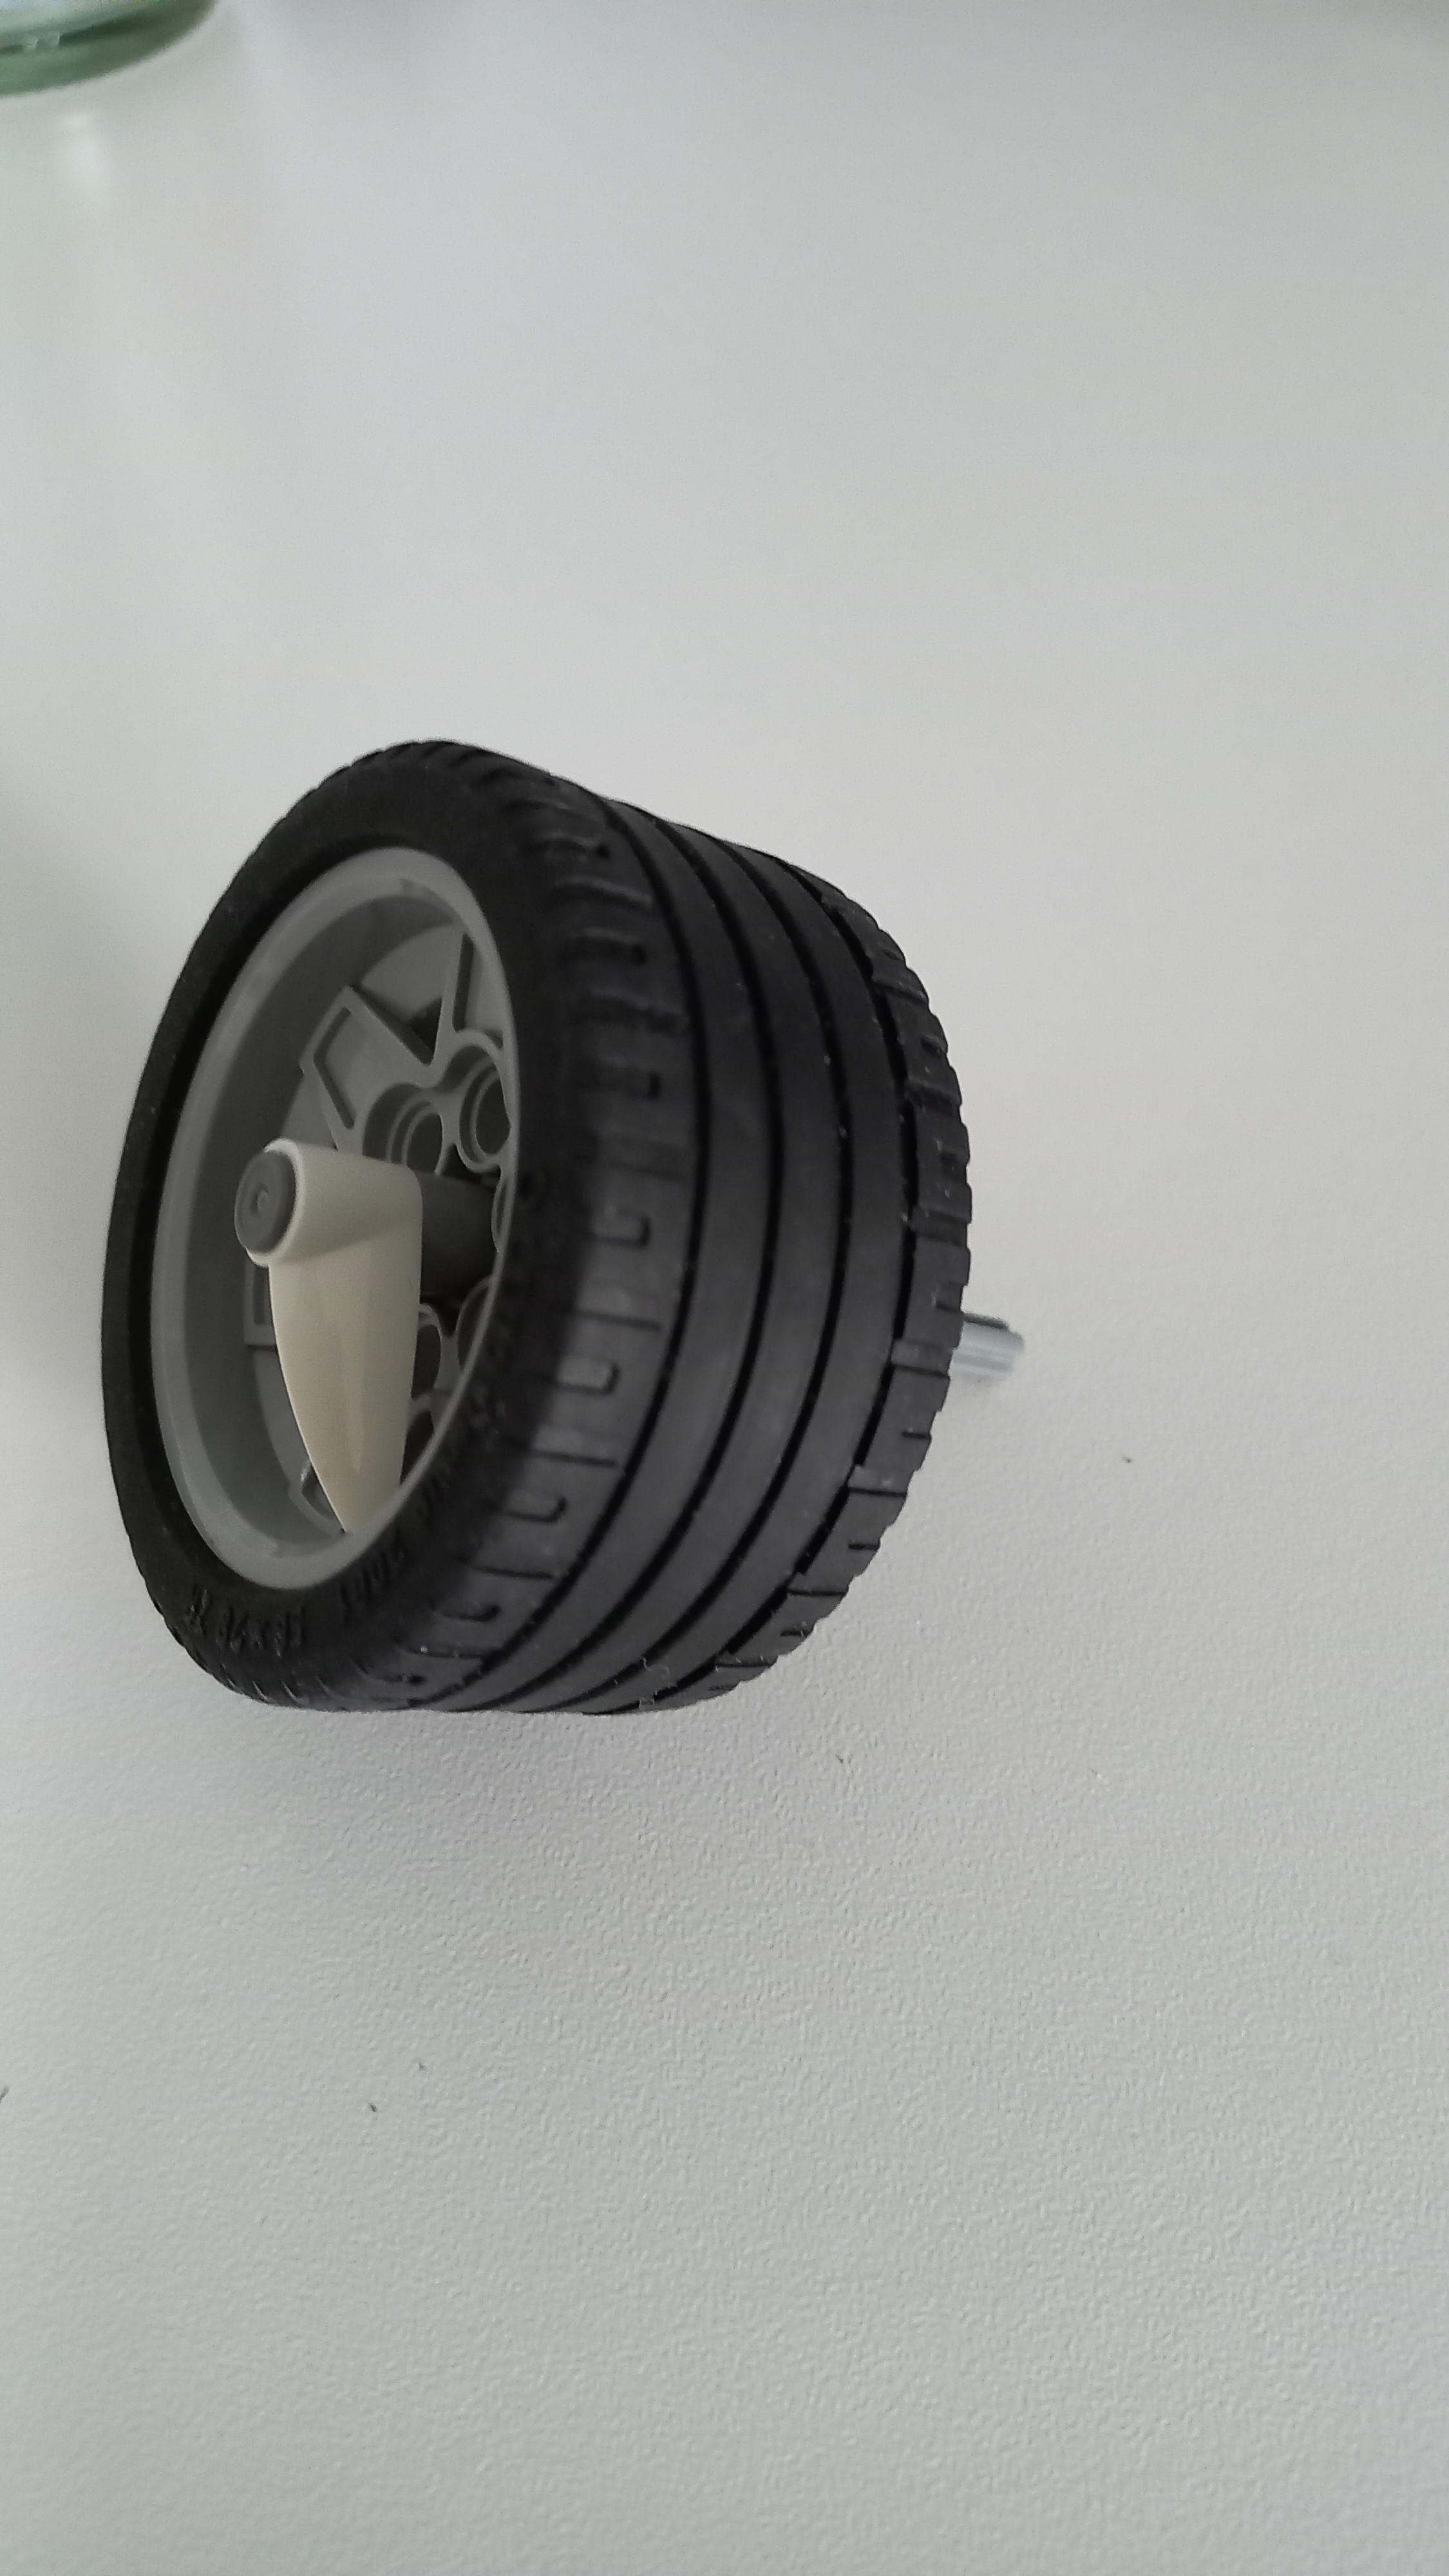Rad+Grau_lang+Kappe: (80, 718, 1056, 1739)
